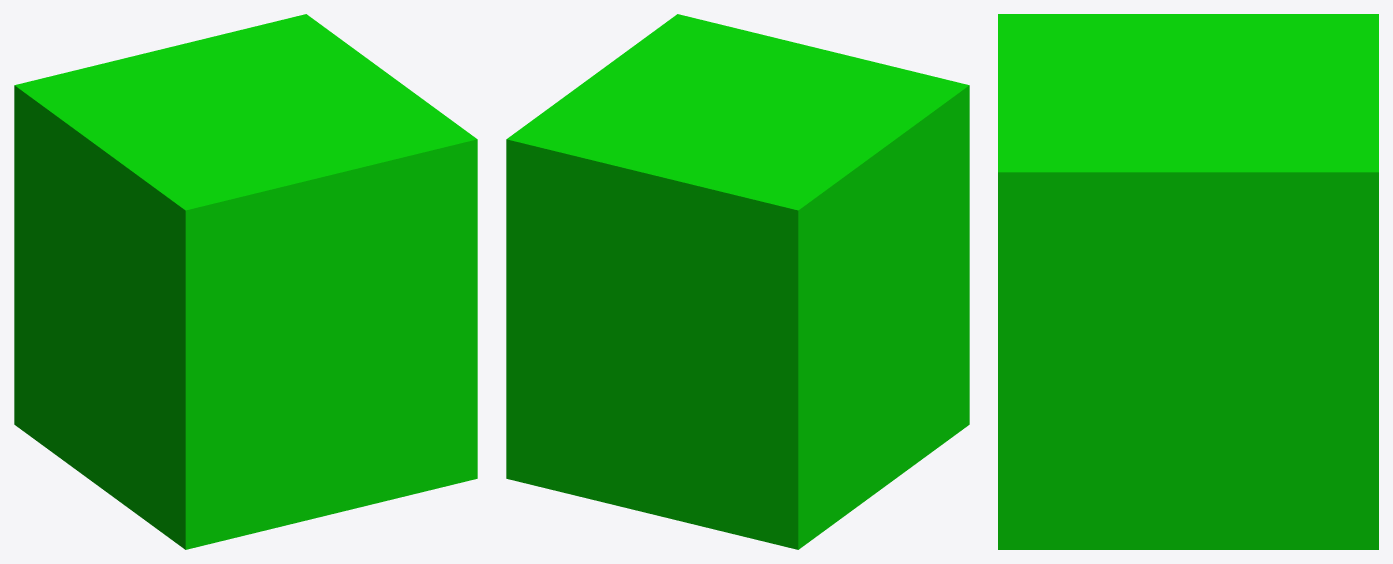
Rendered from locker.fbx.
3 views of the same model, side by side, from view 1: azimuth 30°, elevation 25°; view 2: azimuth 150°, elevation 25°; view 3: azimuth 270°, elevation 25° (orthographic). The views are drawn at different scales.
Visible parts, largest first — view 1: locker1; view 2: locker1; view 3: locker1.
Part boxes in pixels (box(x1,y1,x2,y2)): locker1: box(14, 14, 477, 549); locker1: box(506, 14, 969, 549); locker1: box(998, 14, 1378, 549).
Bounding box in the file's own units: 0.5807 × 0.6452 × 0.5898.
